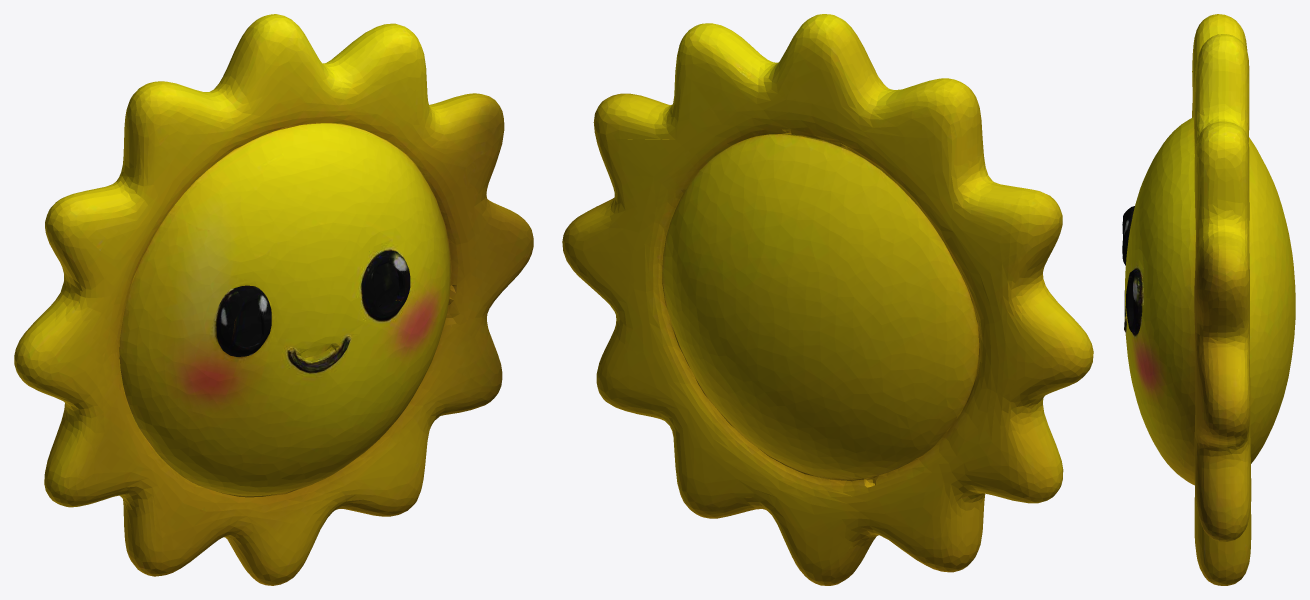
File: sun.glb
3 views of the same model, side by side, from view 1: azimuth 30°, elevation 25°; view 2: azimuth 150°, elevation 25°; view 3: azimuth 270°, elevation 25° (orthographic). The views are drawn at different scales.
Visible parts, largest first — view 1: geometry_0; view 2: geometry_0; view 3: geometry_0.
Boxes of the visible parts, box(x1,y1,x2,y2) form: geometry_0: box(14, 14, 533, 585); geometry_0: box(562, 14, 1093, 585); geometry_0: box(1122, 14, 1295, 585).
Size of the model in its own units: 0.9588 by 0.9991 by 0.296.
Materials: 1 (1 with a texture image).
